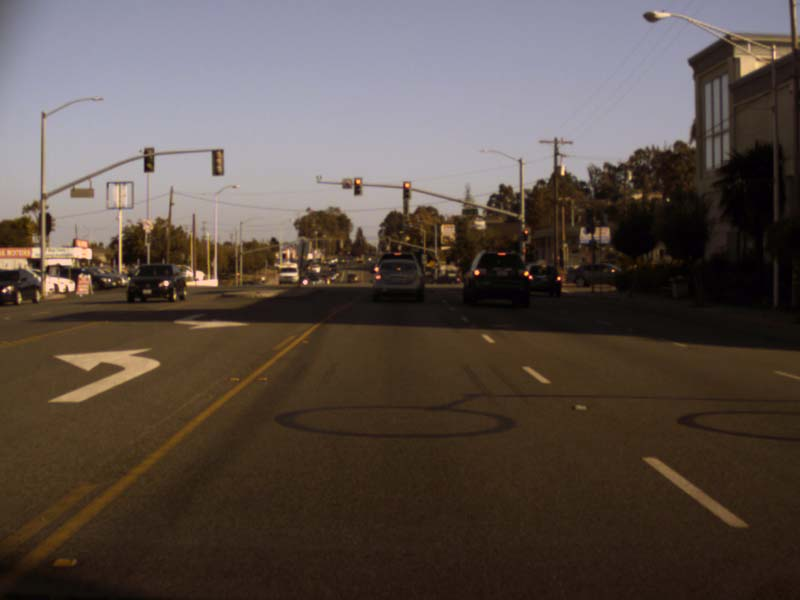Red: (352, 177, 363, 195), (402, 180, 411, 197), (521, 228, 528, 240)
